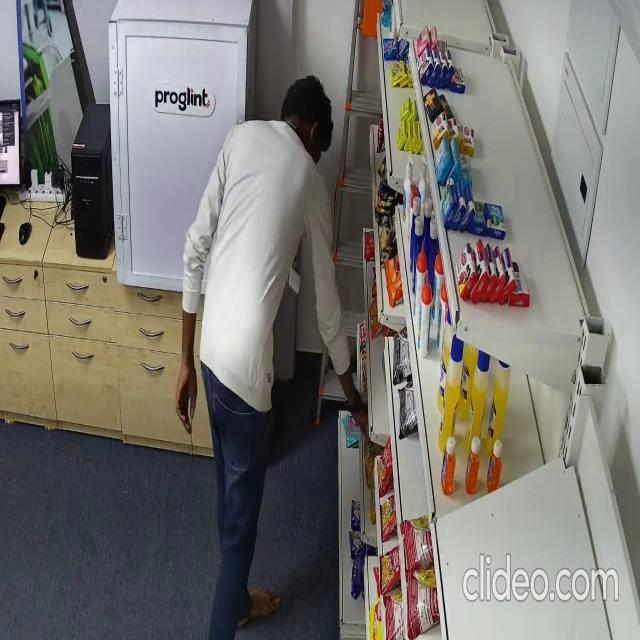normal: (174, 73, 378, 640)
